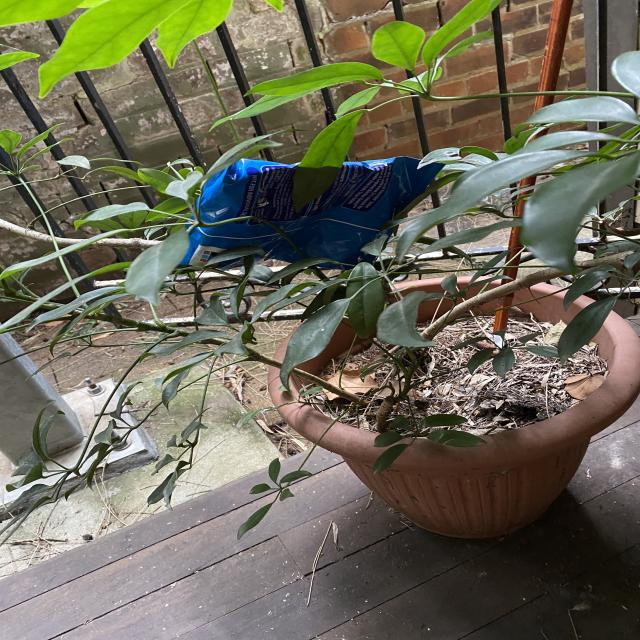bag: (176, 158, 446, 264)
